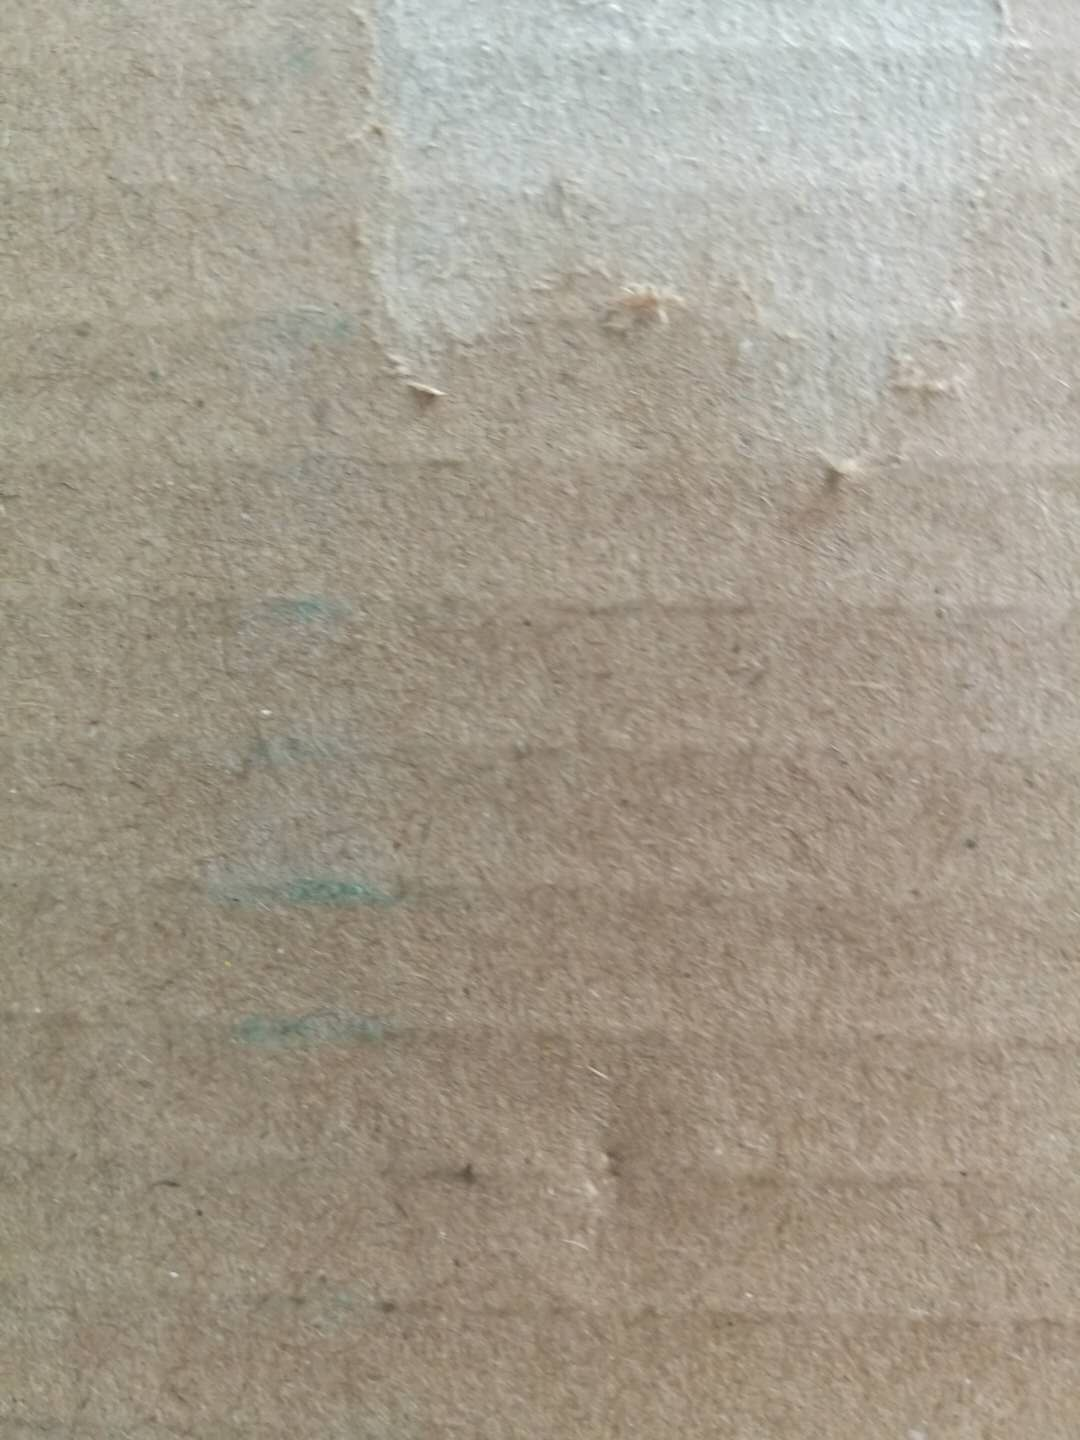defect: (295, 1, 1077, 535), (183, 573, 434, 1115)
